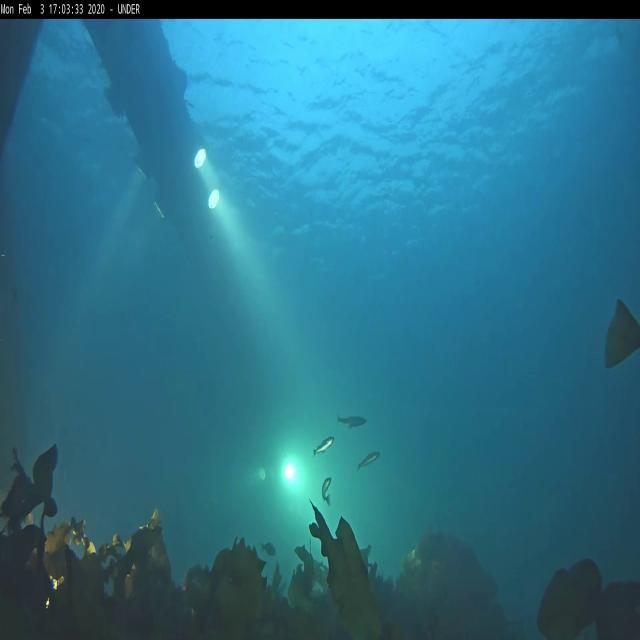fish: (336, 414, 368, 428), (314, 436, 333, 455), (321, 474, 332, 504), (360, 452, 380, 468), (262, 540, 278, 557)
